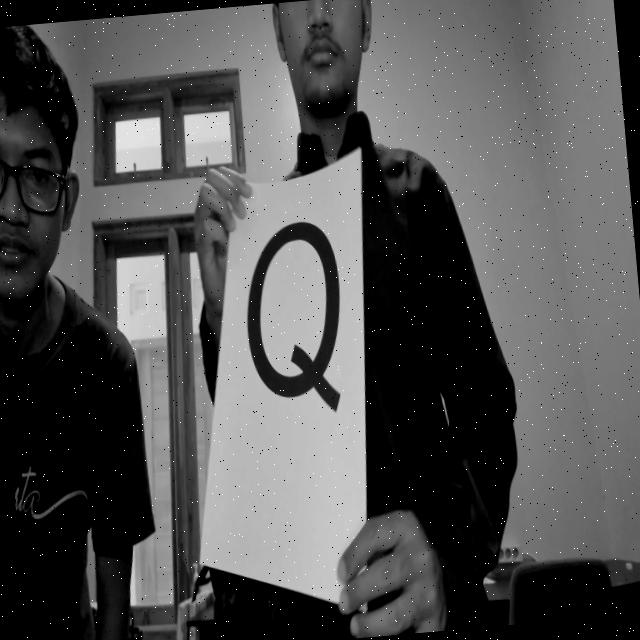q: (234, 208, 364, 433)
